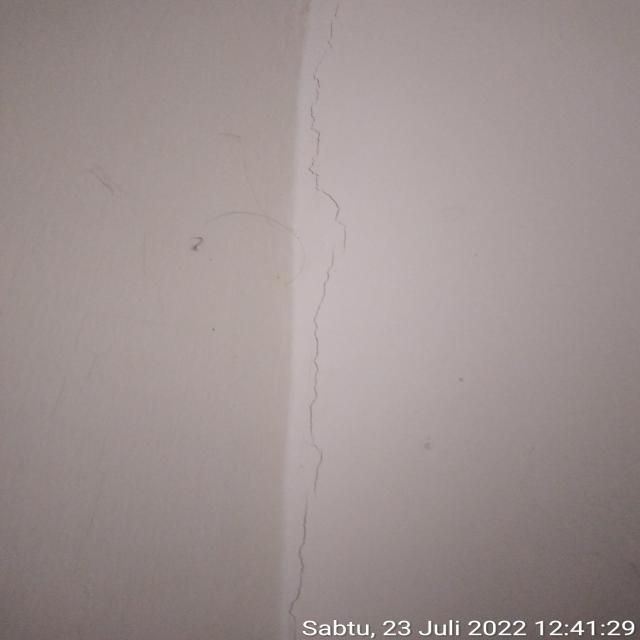Crack: (303, 155, 356, 238), (304, 246, 349, 322), (292, 484, 324, 563), (301, 407, 333, 479), (311, 0, 342, 74), (298, 332, 330, 398), (304, 78, 332, 149), (277, 569, 317, 614)
